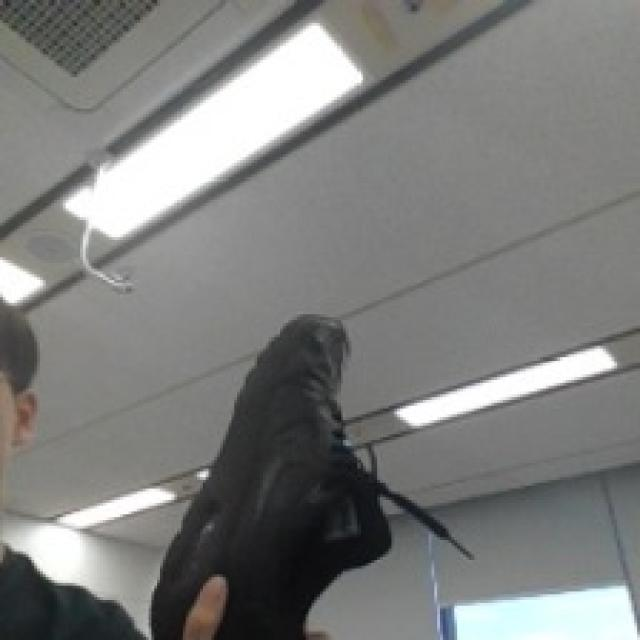shoe: (100, 276, 488, 640)
